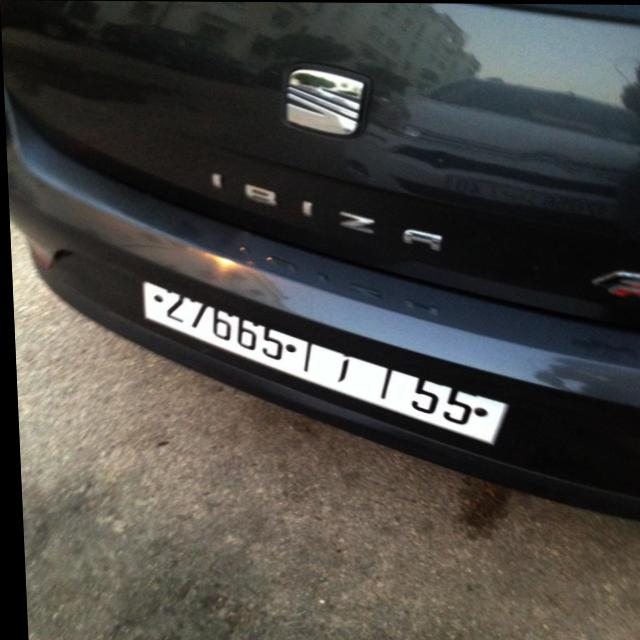License-Plate: (140, 282, 504, 443)
